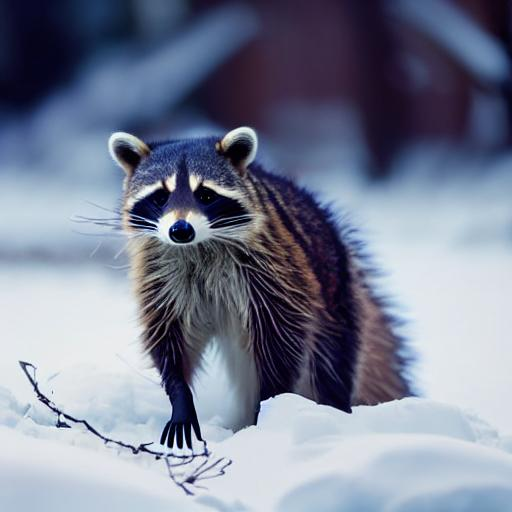raccoon: (84, 112, 430, 402)
